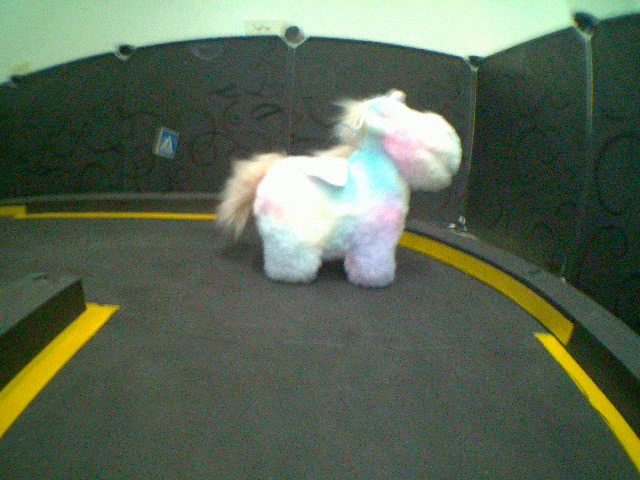unicorn: (213, 86, 466, 291)
